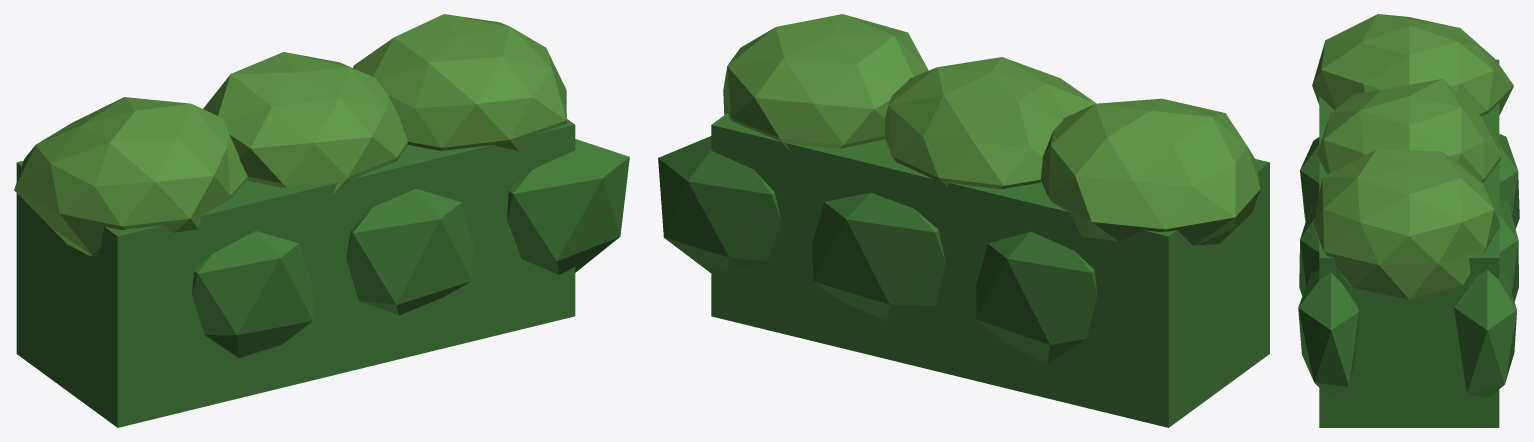
Rendered from hedge.glb.
The picture shows the model from 3 angles, left to right: view 1: azimuth 30°, elevation 25°; view 2: azimuth 150°, elevation 25°; view 3: azimuth 270°, elevation 25°; orthographic projection. The views are drawn at different scales.
Visible parts, largest first — view 1: Hedge_Hedge, Hedge_HedgeLight; view 2: Hedge_Hedge, Hedge_HedgeLight; view 3: Hedge_HedgeLight, Hedge_Hedge.
Boxes of the visible parts, box(x1,y1,x2,y2) form: Hedge_Hedge: box(16, 119, 629, 427); Hedge_HedgeLight: box(14, 14, 566, 255); Hedge_Hedge: box(658, 113, 1269, 427); Hedge_HedgeLight: box(723, 14, 1260, 245); Hedge_HedgeLight: box(1312, 14, 1513, 299); Hedge_Hedge: box(1298, 59, 1519, 427).
Size of the model in its own units: 14.51 by 6.6 by 5.67.
